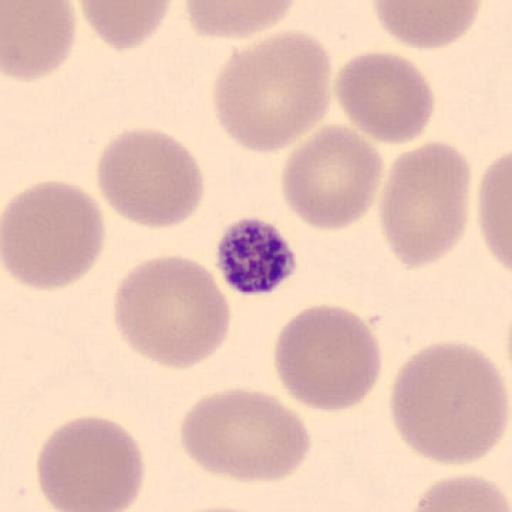Platelet: (213, 214, 299, 296)
RBC: (387, 340, 510, 468), (212, 30, 334, 154), (112, 254, 232, 371), (178, 386, 313, 484), (377, 138, 473, 270), (273, 303, 384, 415), (1, 178, 106, 292), (94, 127, 206, 230), (280, 123, 386, 231), (36, 413, 145, 512), (333, 49, 436, 146), (2, 0, 78, 82), (369, 0, 483, 51), (79, 0, 174, 51), (185, 0, 299, 41), (476, 150, 512, 274), (410, 472, 511, 512), (174, 503, 267, 512)
